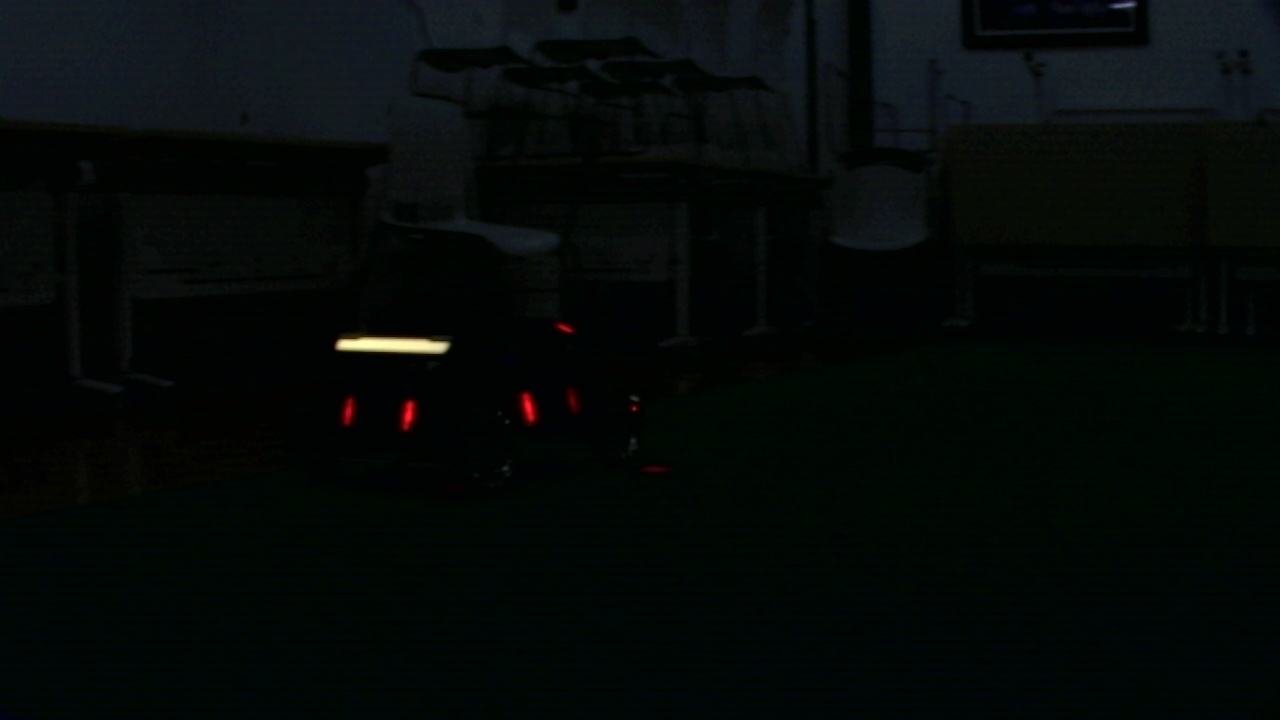lamp: (400, 398, 419, 431), (521, 390, 537, 425), (338, 397, 354, 428)
pair1: (344, 397, 414, 428)
